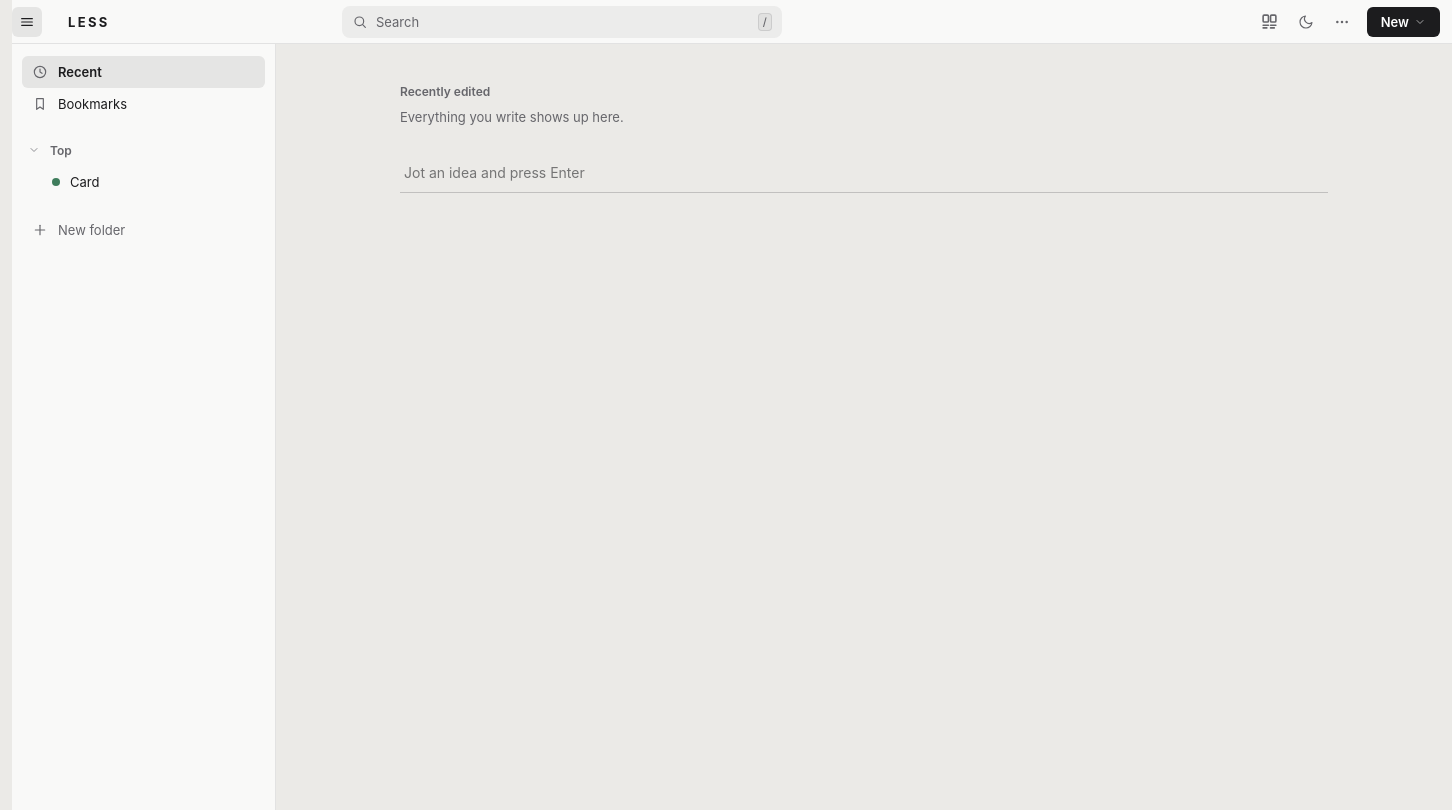
Test: ProjectsHome library › keeps empty nested folders reachable
The image size is (1452, 810).
What coordinates should you click on to do the following:
click the button with class "lib-project"
I would click on:
 (76, 182)
Its box is [52,174,99,190].
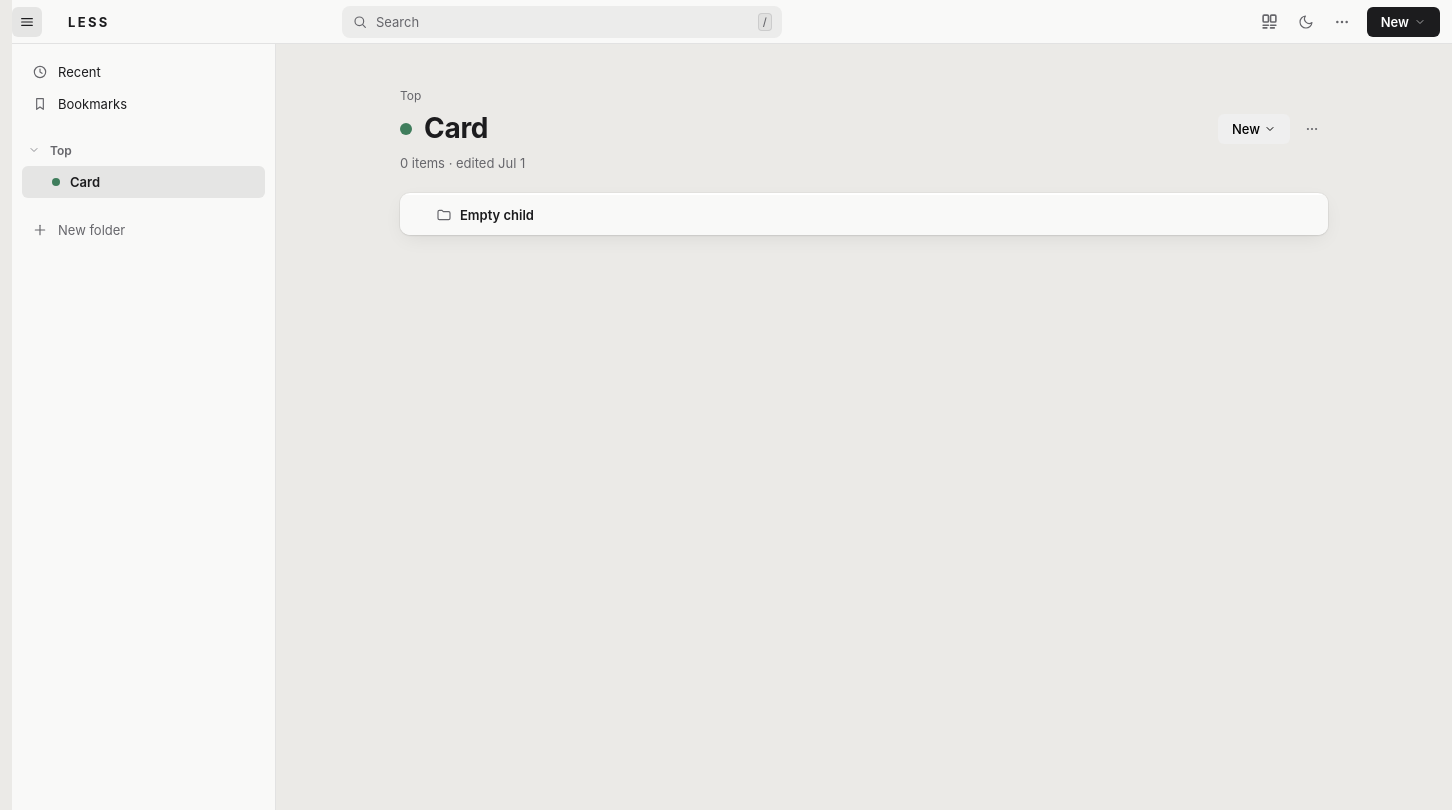
Expected: the element with class "lib-main" shows "Empty child", [458,201,1282,229]
